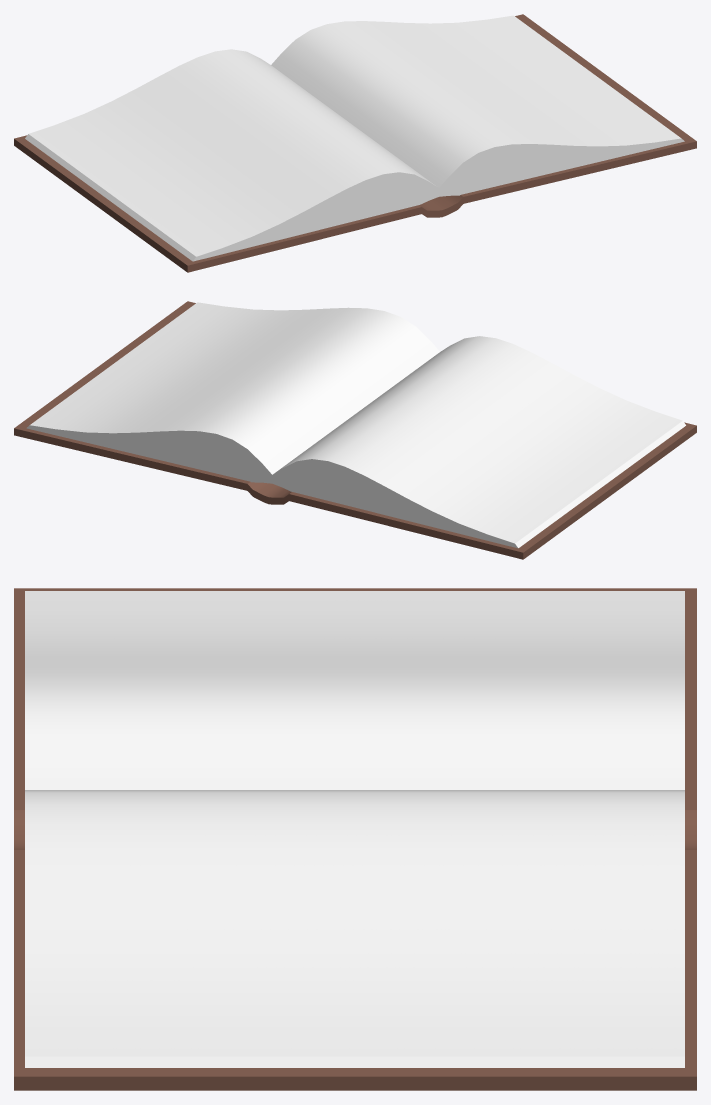
Rendered from Buch.fbx.
The picture shows the model from 3 angles, top to bottom: view 1: azimuth 30°, elevation 25°; view 2: azimuth 150°, elevation 25°; view 3: azimuth 270°, elevation 25°; orthographic projection. The views are drawn at different scales.
Parts seen in each view (by area): view 1: Buch; view 2: Buch; view 3: Buch.
Part boxes in pixels (<box>): Buch: <box>14,14,696,272</box>; Buch: <box>14,301,696,559</box>; Buch: <box>14,588,696,1090</box>.
Size of the model in its own units: 57.57 by 5.9 by 34.01.
